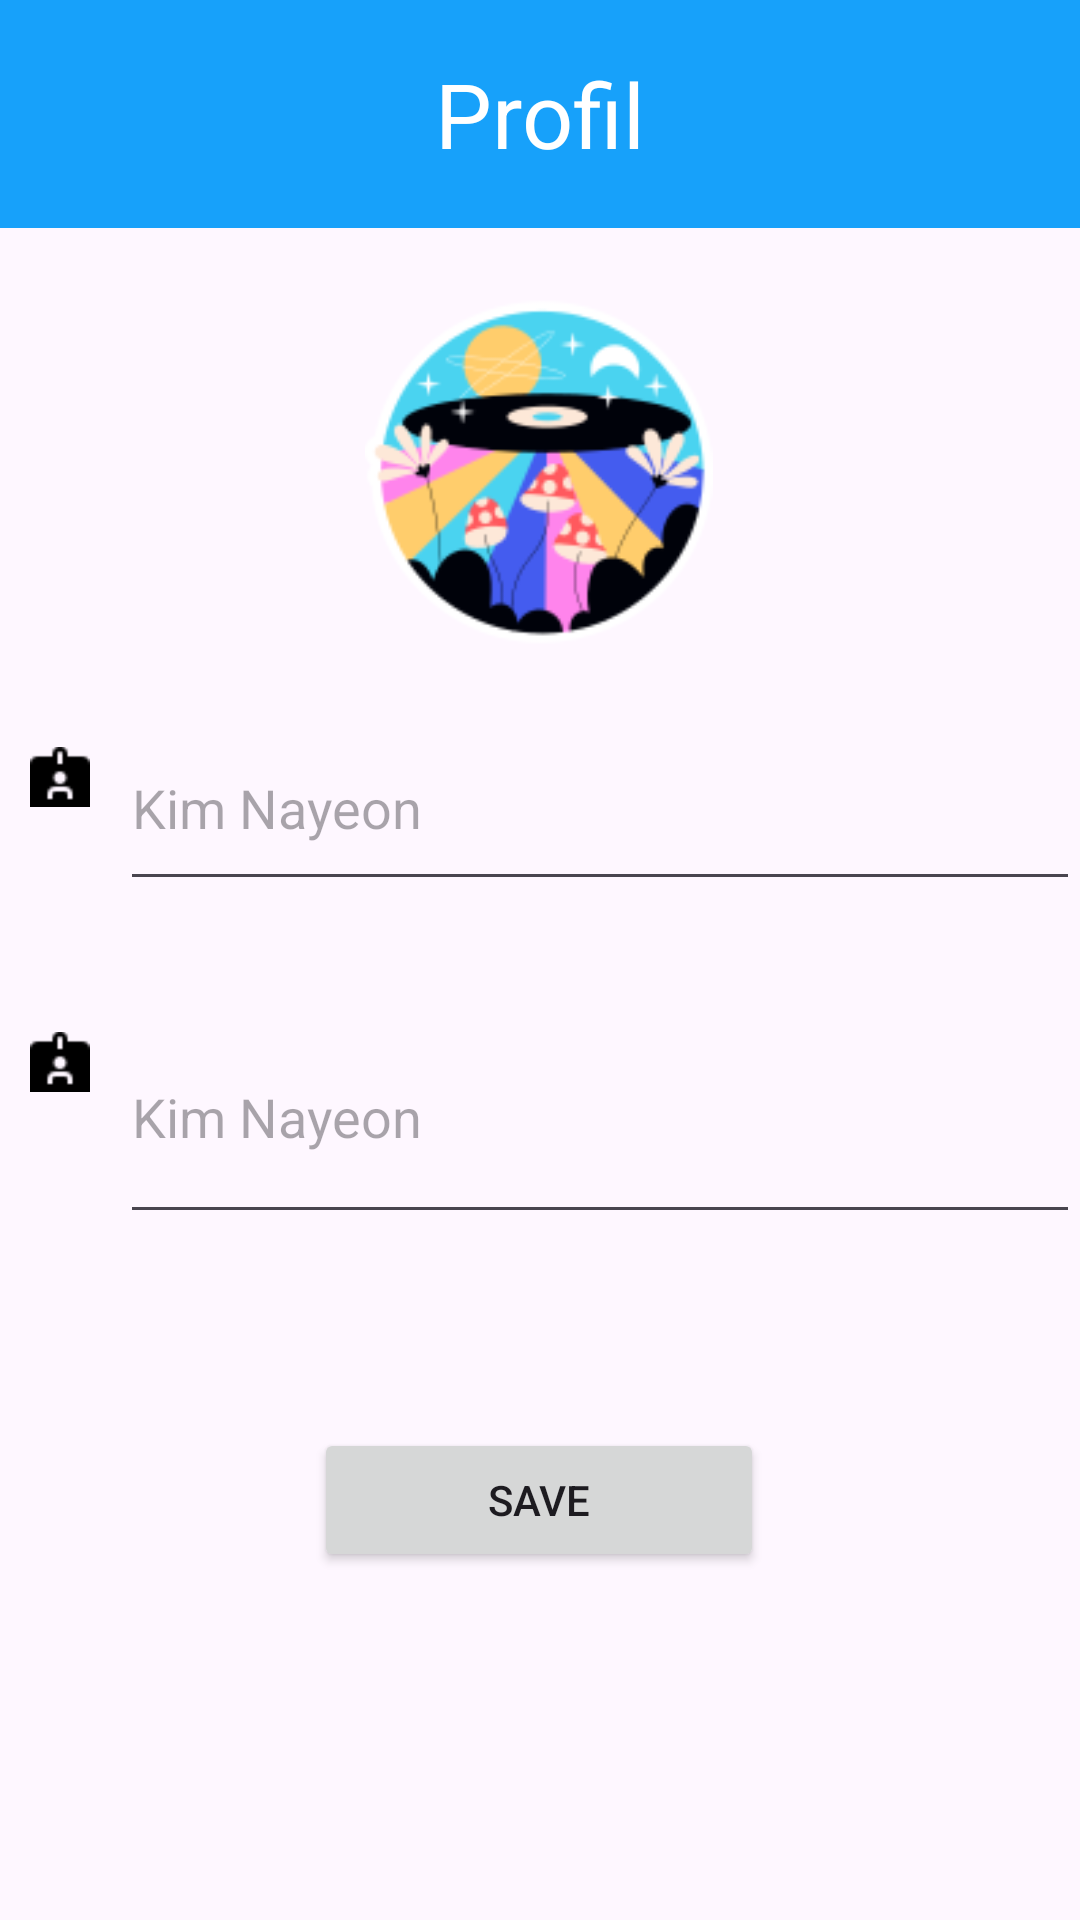

Locate icon controls on the screen. Image size 1080 × 1920, boxes as (x1, y1, x2, y2).
userr: (30, 747, 90, 807), (30, 1032, 90, 1092)
